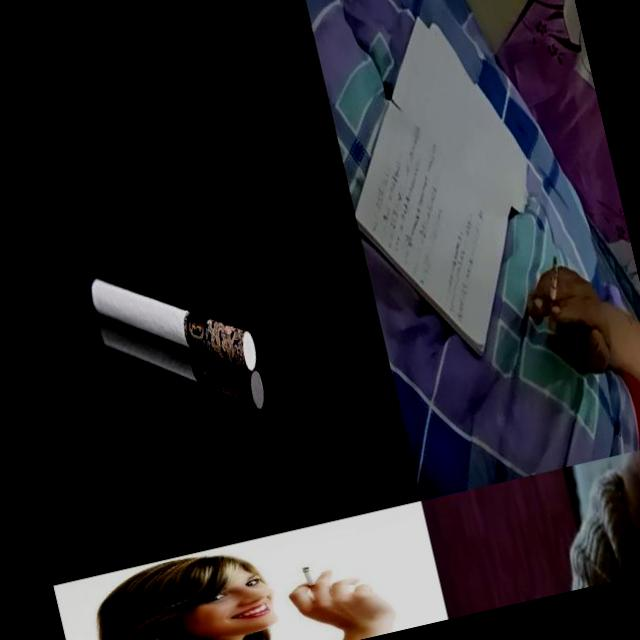smoke: (96, 283, 268, 442), (86, 245, 260, 402), (532, 254, 574, 335), (301, 564, 319, 594)
